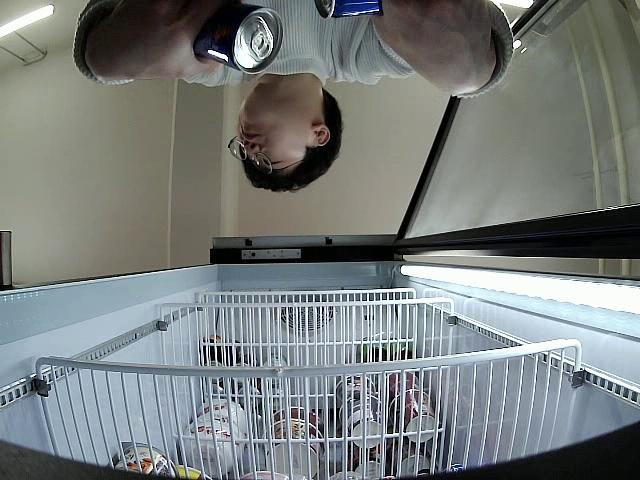00_hand: (372, 0, 493, 79), (113, 0, 224, 83)
16_hot6: (187, 4, 284, 74), (314, 0, 384, 19)
